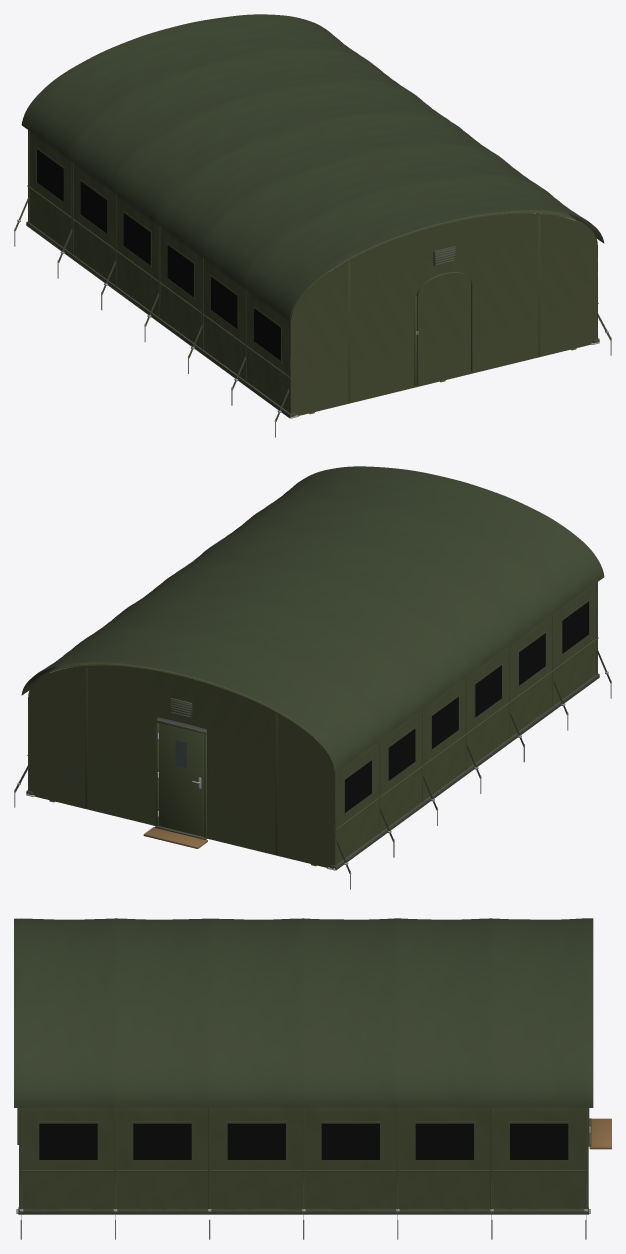
File: rdmss-deployed.glb
3 renders of one model, top to bottom at view 1: azimuth 30°, elevation 25°; view 2: azimuth 150°, elevation 25°; view 3: azimuth 270°, elevation 25°, orthographic. The views are drawn at different scales.
Visible parts, largest first — view 1: RDMSS_thermal_cap, RDMSS_shelter; view 2: RDMSS_thermal_cap, RDMSS_shelter; view 3: RDMSS_thermal_cap, RDMSS_shelter.
Boxes of the visible parts, <box> form: RDMSS_thermal_cap: <box>21,14,604,320</box>; RDMSS_shelter: <box>14,130,611,437</box>; RDMSS_thermal_cap: <box>21,466,604,772</box>; RDMSS_shelter: <box>14,582,611,889</box>; RDMSS_thermal_cap: <box>14,918,593,1107</box>; RDMSS_shelter: <box>16,1107,611,1239</box>.
Bounding box in the file's own units: 6.83 × 3.44 × 9.68.
